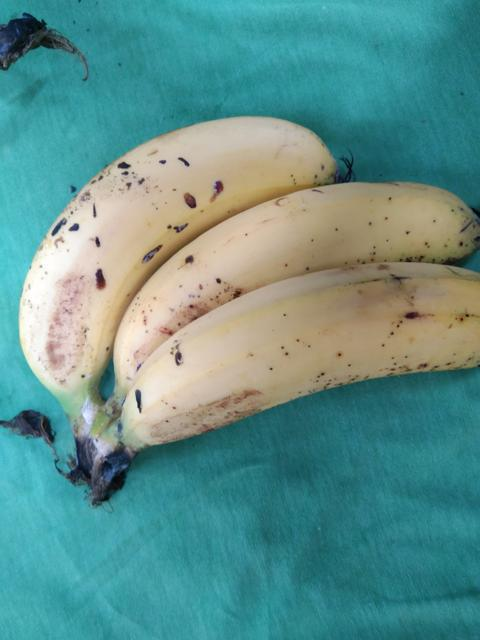ripe: (8, 105, 355, 416), (100, 167, 477, 402), (120, 256, 479, 470)
